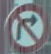Don't turn right: (6, 1, 50, 51)
